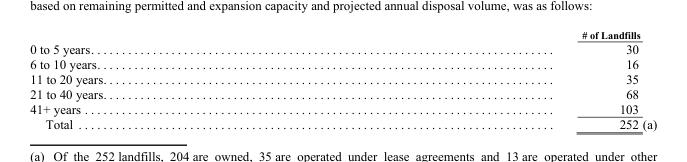table: (29, 29, 656, 131)
table column: (341, 29, 656, 131), (29, 29, 341, 131)
table column header: (29, 29, 656, 41)
table row: (29, 100, 656, 116), (29, 41, 656, 56), (29, 56, 656, 71), (29, 71, 656, 86), (29, 116, 656, 131), (29, 86, 656, 100), (29, 29, 656, 41)
